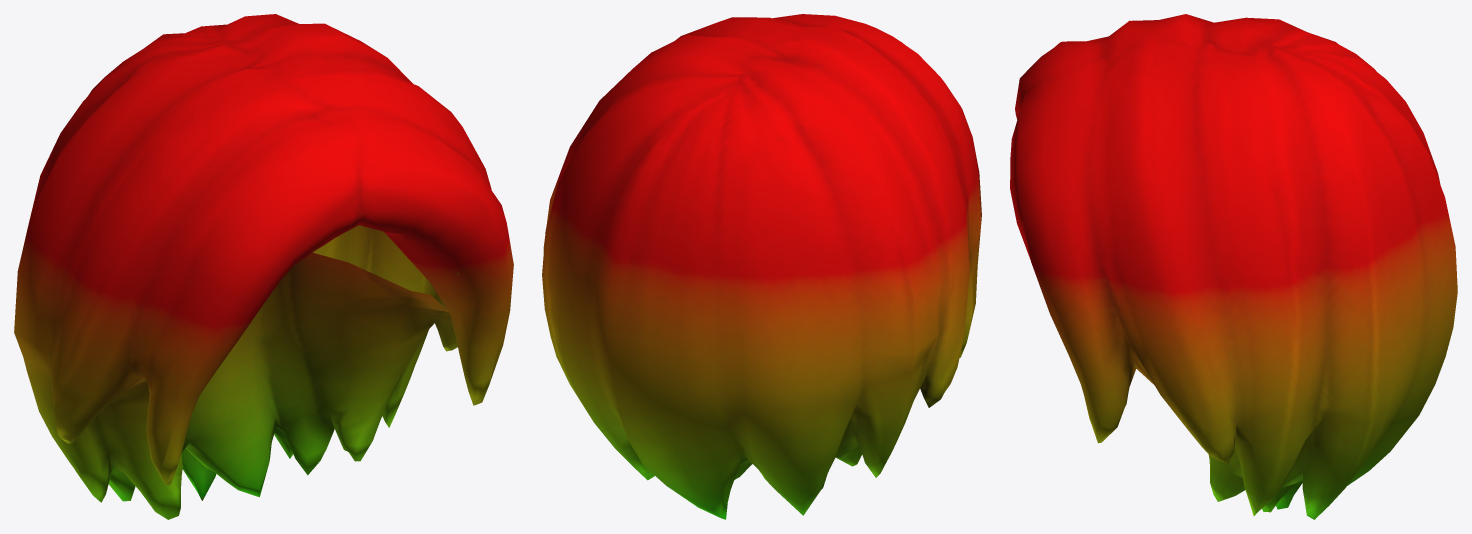
Rendered from HairBack_Short.obj.
3 renders of one model, left to right at view 1: azimuth 30°, elevation 25°; view 2: azimuth 150°, elevation 25°; view 3: azimuth 270°, elevation 25°, orthographic. The views are drawn at different scales.
Parts seen in each view (by area): view 1: HairBack_Short_0; view 2: HairBack_Short_0; view 3: HairBack_Short_0.
Part boxes in pixels (left/top/right/bottom): HairBack_Short_0: left=14, top=14, right=513, bottom=519; HairBack_Short_0: left=542, top=14, right=981, bottom=519; HairBack_Short_0: left=1010, top=14, right=1457, bottom=519.
Bounding box in the file's own units: 0.2352 × 0.2552 × 0.2216.
1 material, 1 textured.
